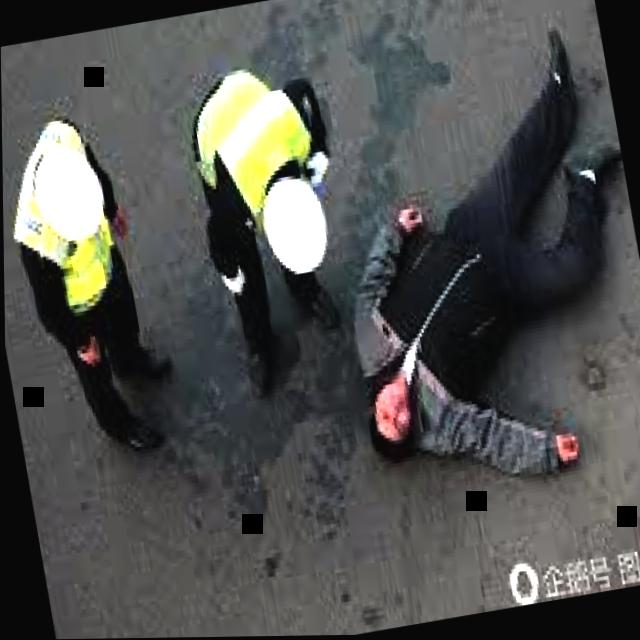Fall-Detected: (278, 0, 640, 517)
